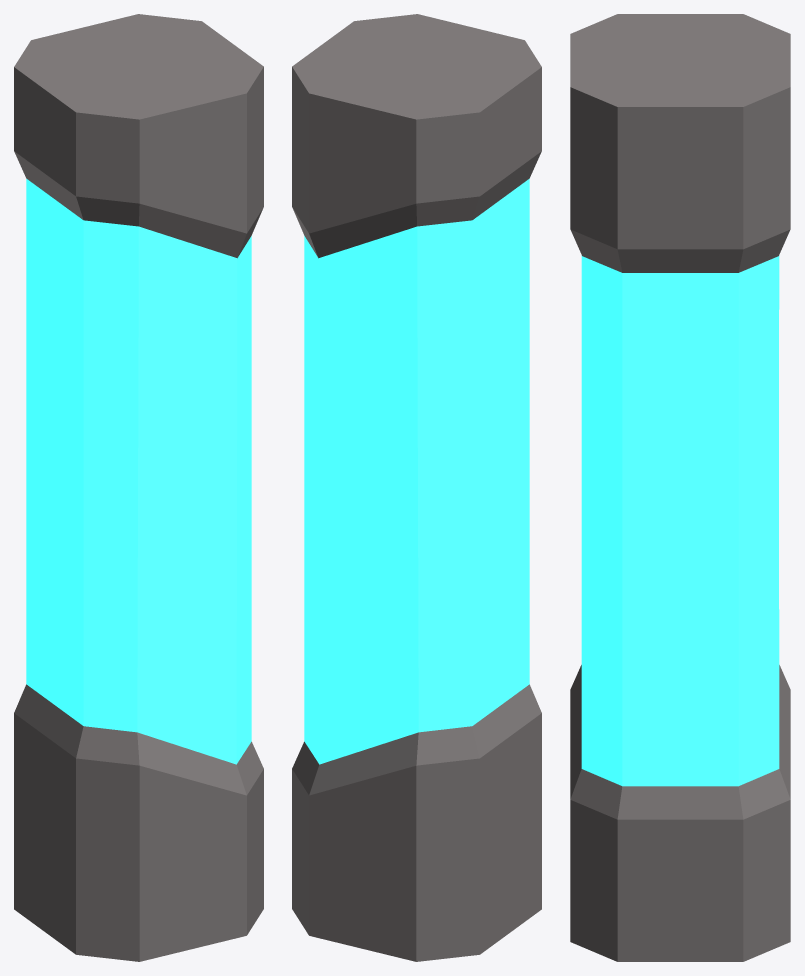
The model's file is scifi-pillar-light.glb.
3 renders of one model, left to right at view 1: azimuth 30°, elevation 25°; view 2: azimuth 150°, elevation 25°; view 3: azimuth 270°, elevation 25°, orthographic.
Visible parts, largest first — view 1: scifi-pillar-light; view 2: scifi-pillar-light; view 3: scifi-pillar-light.
Part boxes in pixels (box(x1,y1,x2,y2)): scifi-pillar-light: box(14, 14, 263, 961); scifi-pillar-light: box(292, 14, 541, 961); scifi-pillar-light: box(570, 14, 790, 961).
Size of the model in its own units: 0.7003 by 3 by 0.7003.
Materials: 1 (1 with a texture image).
